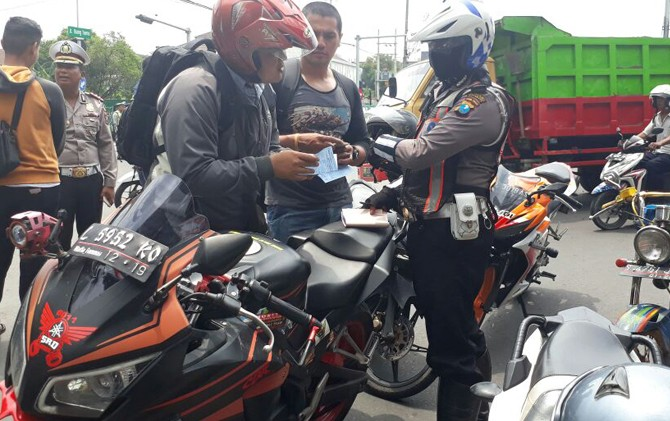plate: (73, 221, 166, 281)
